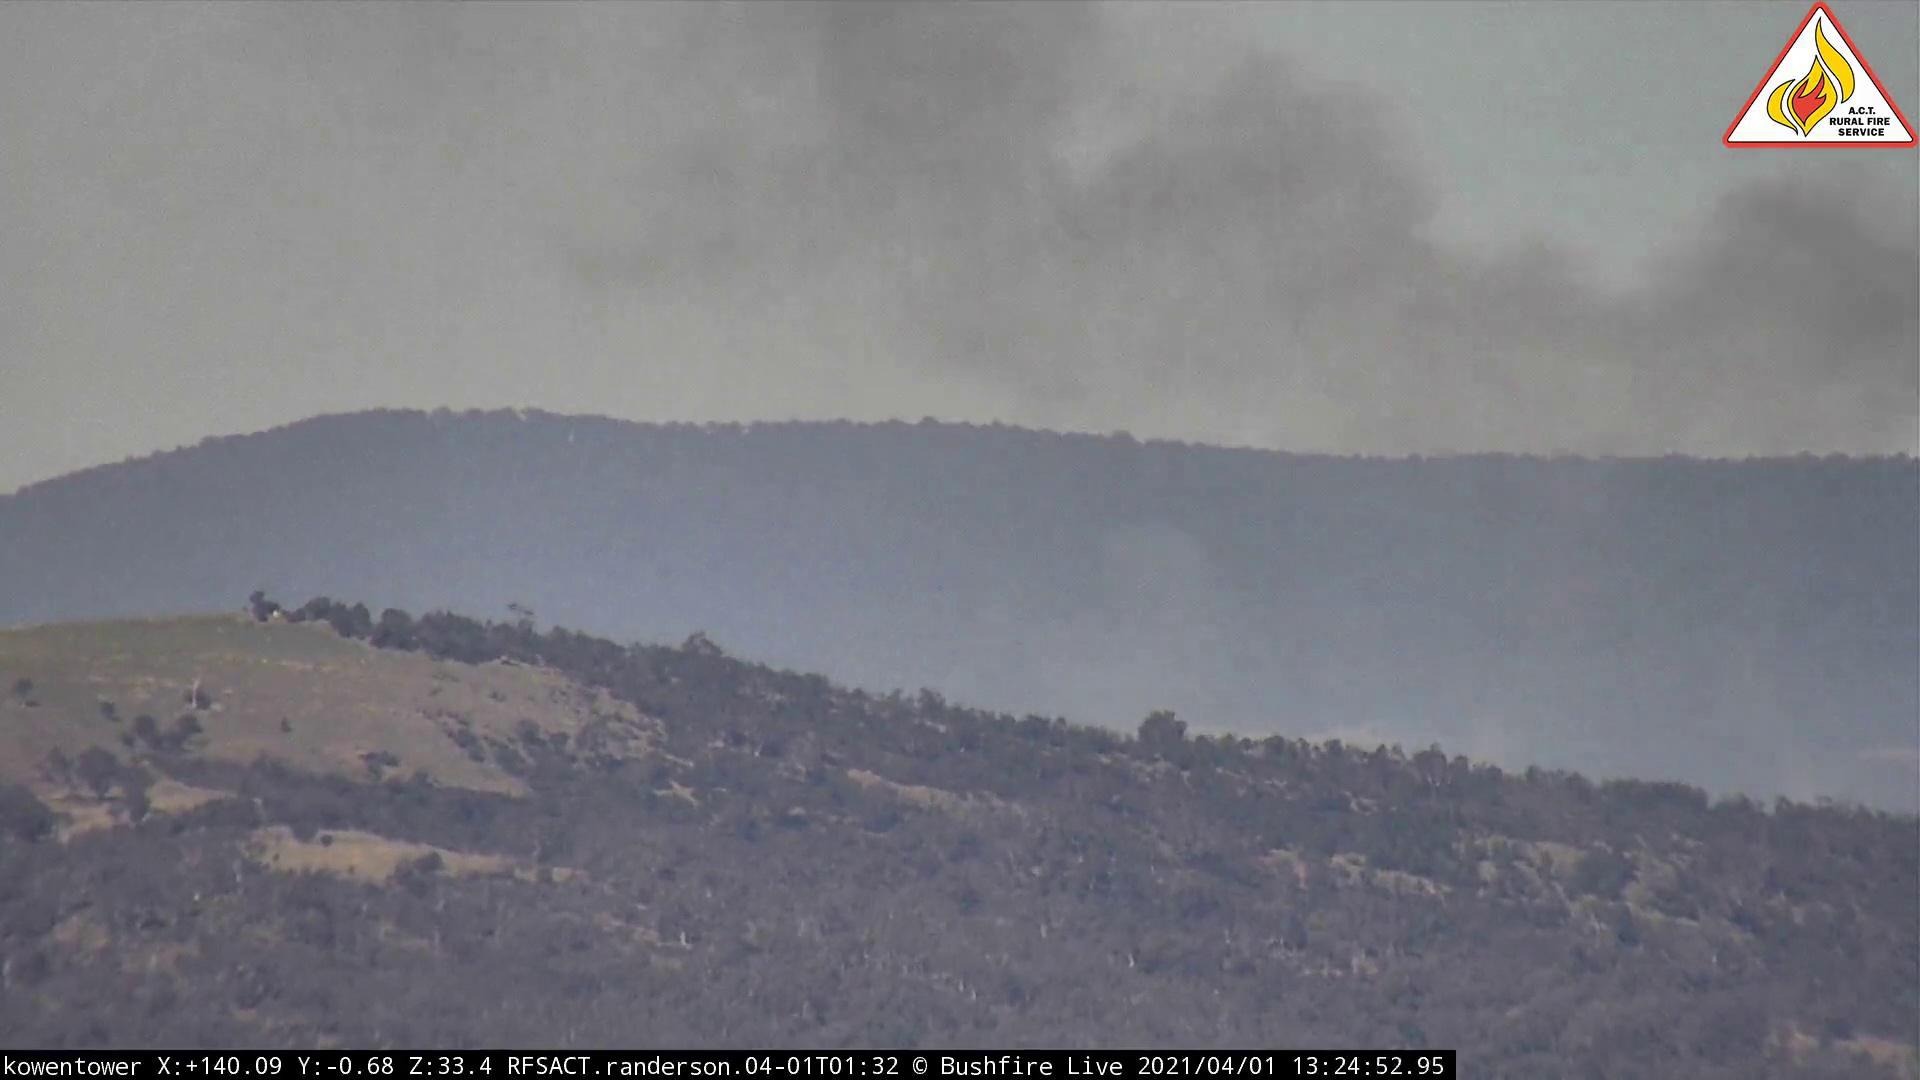instance_salient_object: (574, 3, 1920, 836)
